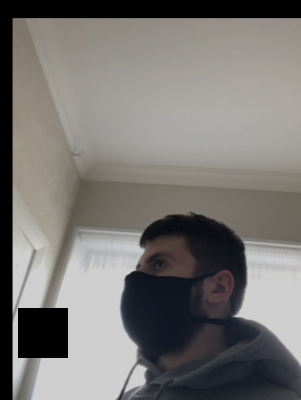with_mask: (120, 249, 198, 354)
